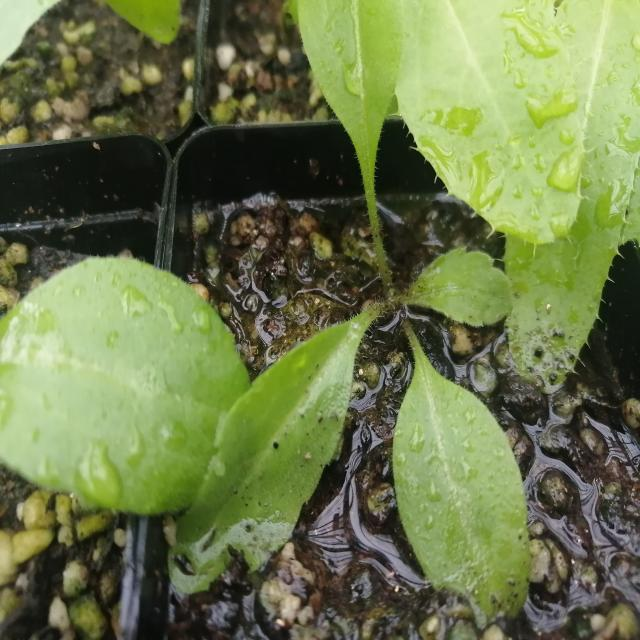horseweed: (170, 112, 550, 594)
